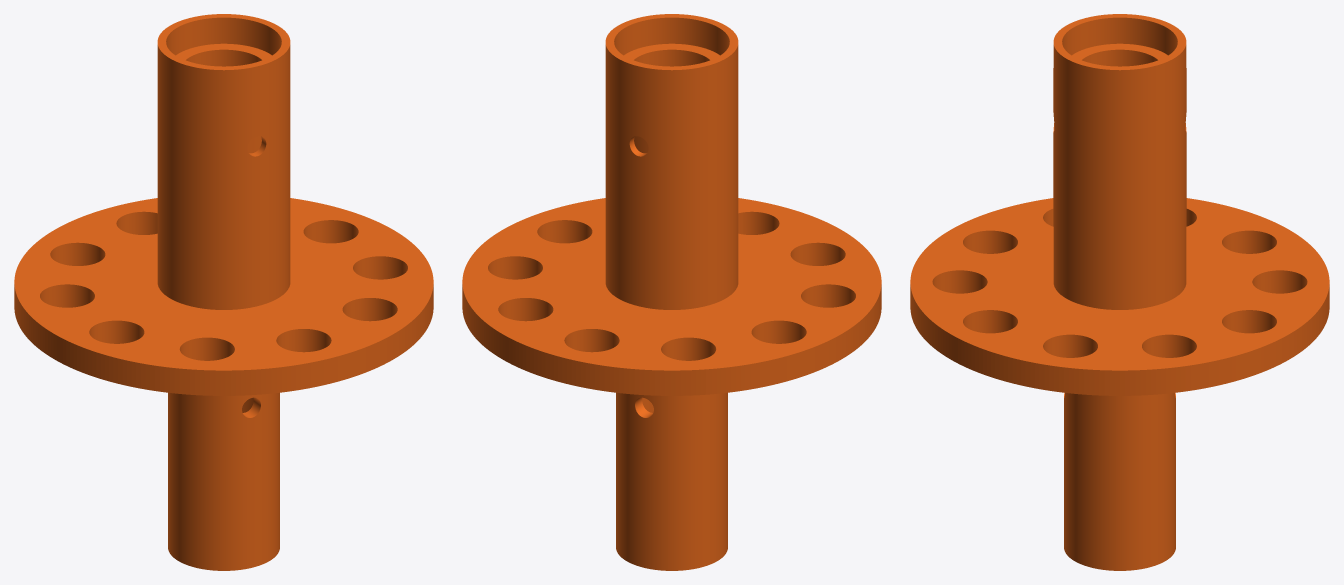
File: 09_placa_union.glb
3 renders of one model, left to right at view 1: azimuth 30°, elevation 25°; view 2: azimuth 150°, elevation 25°; view 3: azimuth 270°, elevation 25°, orthographic.
Parts seen in each view (by area): view 1: 09_placa_union; view 2: 09_placa_union; view 3: 09_placa_union.
Boxes of the visible parts, bbox=[...] form: 09_placa_union: bbox=[14, 14, 433, 570]; 09_placa_union: bbox=[462, 14, 881, 570]; 09_placa_union: bbox=[910, 14, 1329, 570].
Bounding box in the file's own units: 190 × 253 × 190.
